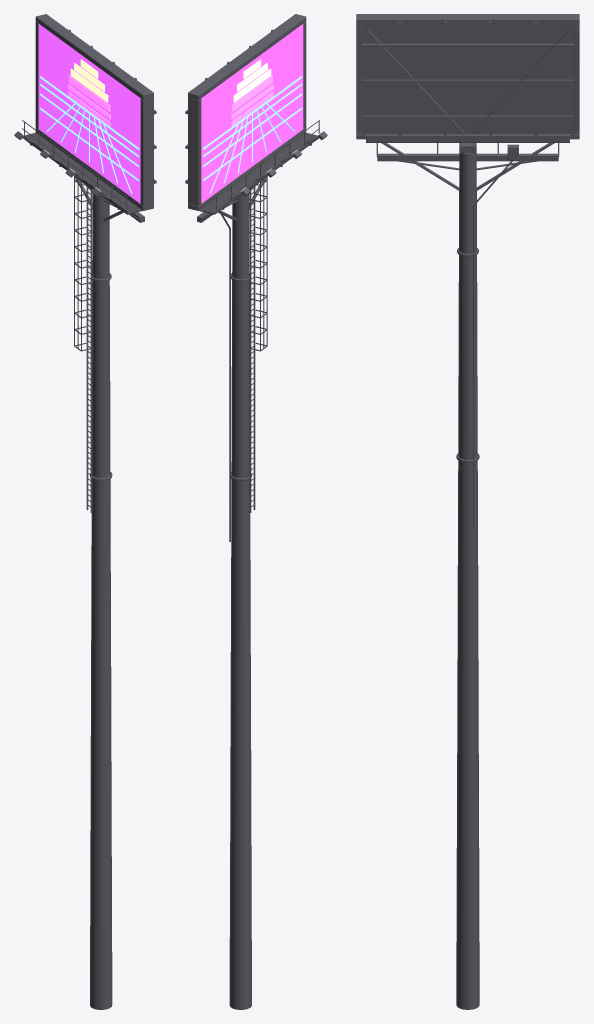
File: billboard.glb
The picture shows the model from 3 angles, left to right: view 1: azimuth 30°, elevation 25°; view 2: azimuth 150°, elevation 25°; view 3: azimuth 270°, elevation 25°; orthographic projection. The views are drawn at different scales.
Visible parts, largest first — view 1: billboard; view 2: billboard; view 3: billboard.
Part boxes in pixels (x1,y1,x2,y2): billboard: (14, 14, 156, 1009); billboard: (185, 14, 327, 1009); billboard: (356, 14, 579, 1009).
Bounding box in the file's own units: 3.55 × 57.5 × 11.8.
